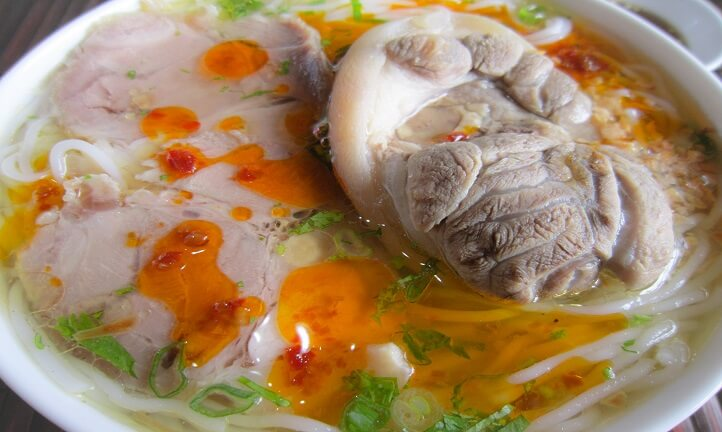pork: (326, 8, 679, 309)
